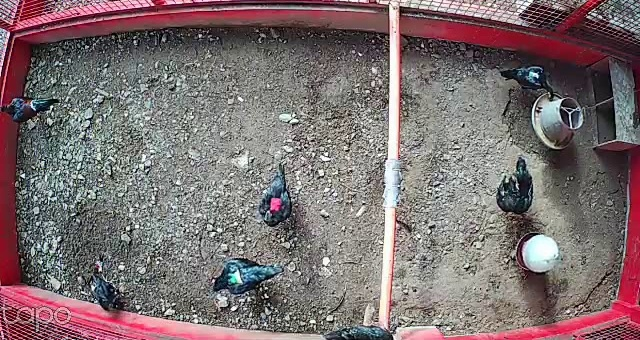Chicken: (213, 255, 292, 298), (492, 159, 543, 220), (496, 59, 554, 103), (257, 163, 294, 228), (84, 262, 127, 317), (318, 323, 399, 340)
Rooster: (0, 87, 62, 130)
Saddle_Color_Red: (270, 198, 282, 211)
Saddle_Color_YellowGreen: (227, 268, 243, 286)
